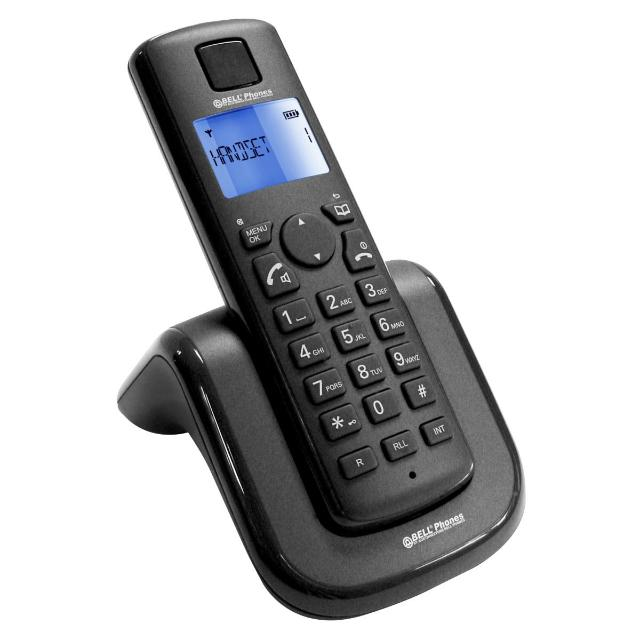Telephone-Set: (83, 21, 559, 584)
